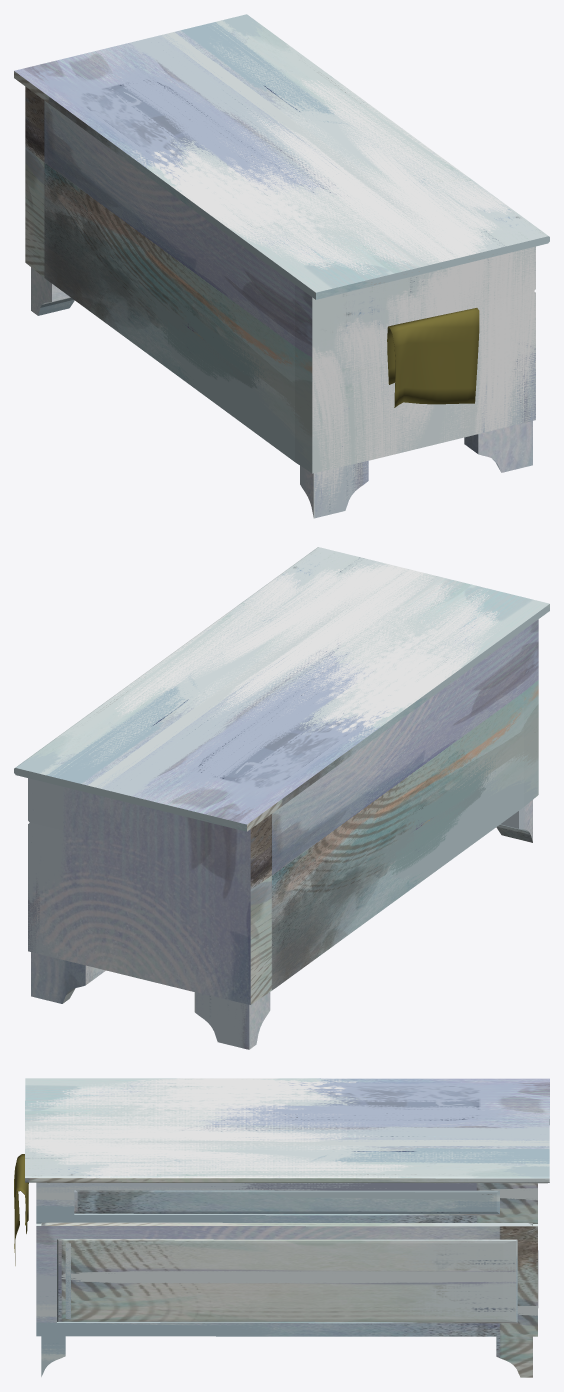
The model's file is Bar.glb.
3 renders of one model, top to bottom at view 1: azimuth 30°, elevation 25°; view 2: azimuth 150°, elevation 25°; view 3: azimuth 270°, elevation 25°, orthographic. The views are drawn at different scales.
Parts seen in each view (by area): view 1: Cube.028, Plane.005; view 2: Cube.028; view 3: Cube.028, Plane.005.
Boxes of the visible parts, <box> form: Cube.028: <box>14,14,549,518</box>; Plane.005: <box>387,308,479,407</box>; Cube.028: <box>14,547,549,1049</box>; Cube.028: <box>25,1078,549,1377</box>; Plane.005: <box>14,1154,28,1265</box>.
Size of the model in its own units: 1.21 by 1.16 by 2.76.
2 materials, 1 textured.
